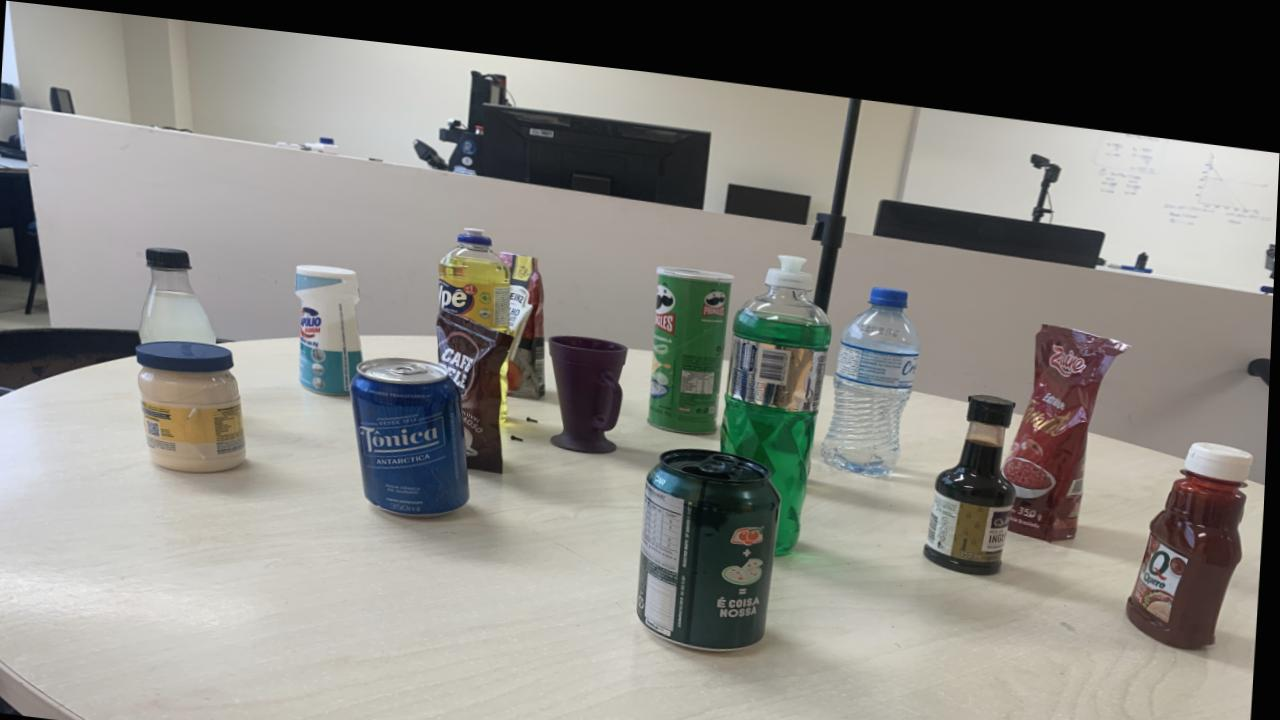Cleaner-Cleanup_Items: (298, 257, 365, 387)
Coffee-Pantry_Items: (439, 299, 514, 461)
Detergent-Cleanup_Items: (723, 237, 834, 536), (441, 217, 513, 321)
English_Sauce-Pantry_Items: (928, 372, 1019, 552)
Guarana_Can-Drinks: (641, 431, 785, 634)
Ketchup-Pantry_Items: (1131, 413, 1255, 621)
Mayonnaise-Pantry_Items: (138, 336, 250, 468)
Pringles-Snacks: (651, 250, 734, 418)
Soda-Drinks: (142, 243, 220, 340)
Tomato_Sauce-Pantry_Items: (1007, 300, 1130, 516), (501, 240, 549, 386)
Tonic-Drinks: (355, 348, 474, 506)
Water_Bottle-Drinks: (825, 267, 922, 456)
